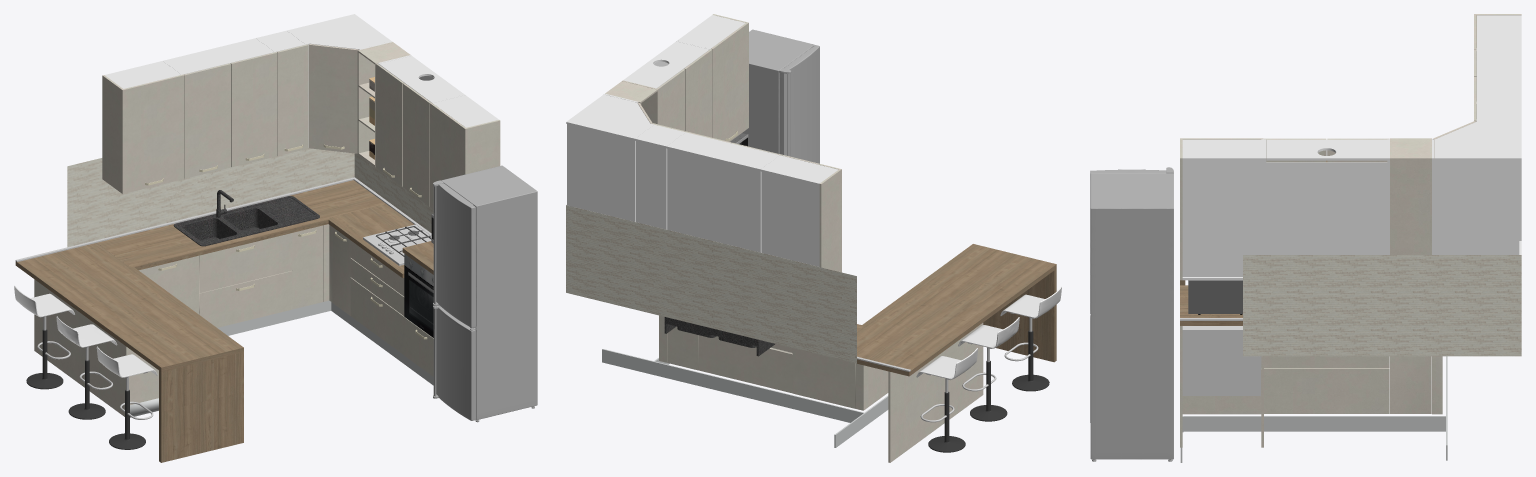
The model's file is SM_Kitchen.fbx.
3 views of the same model, side by side, from view 1: azimuth 30°, elevation 25°; view 2: azimuth 150°, elevation 25°; view 3: azimuth 270°, elevation 25° (orthographic). The views are drawn at different scales.
Visible parts, largest first — view 1: SM_Kitchen; view 2: SM_Kitchen; view 3: SM_Kitchen.
Boxes of the visible parts, x1,y1,x2,y2 form: SM_Kitchen: [14, 14, 537, 462]; SM_Kitchen: [566, 14, 1061, 462]; SM_Kitchen: [1090, 14, 1521, 462].
Bounding box in the file's own units: 367 × 249 × 320.
Materials: 24 (11 with a texture image).
